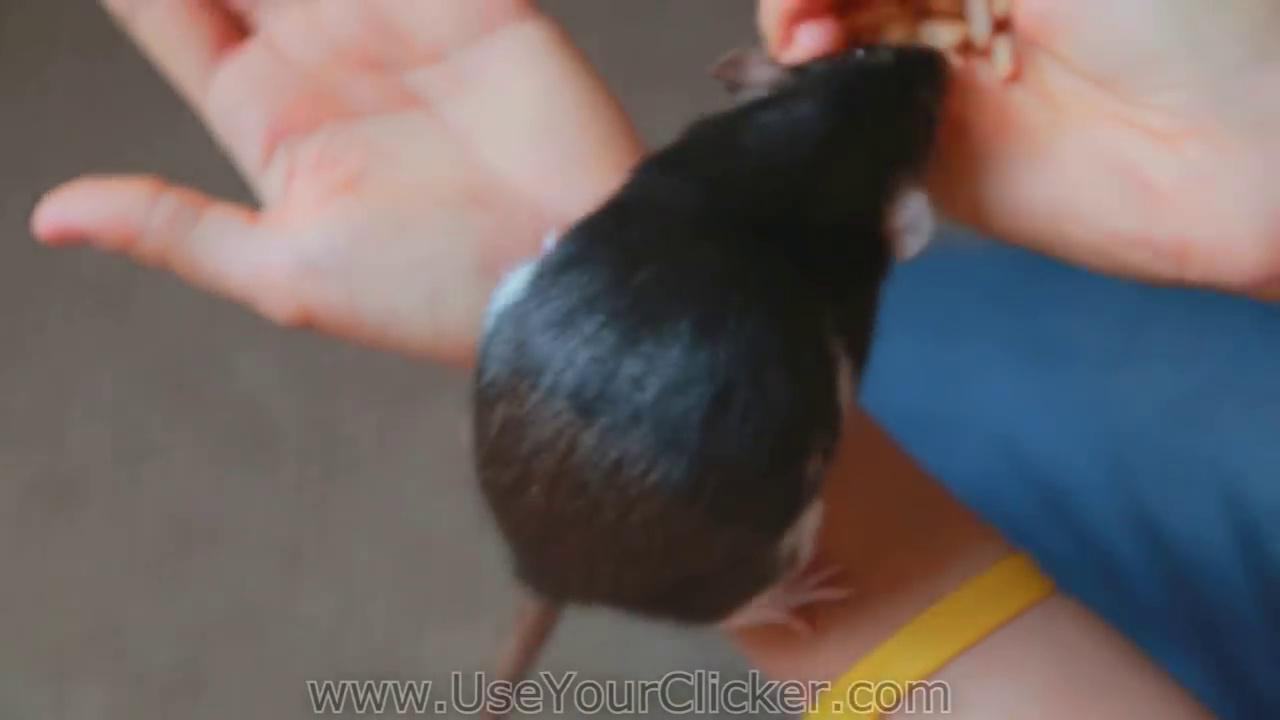rat: (471, 37, 954, 720)
